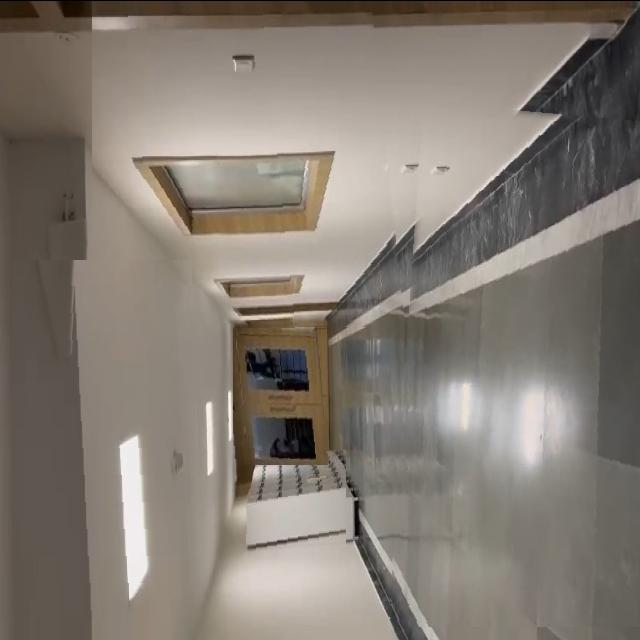door: (233, 286, 329, 464)
floor: (388, 101, 640, 626)
furniture: (240, 449, 346, 557)
wall: (92, 0, 405, 328), (12, 259, 205, 623)
